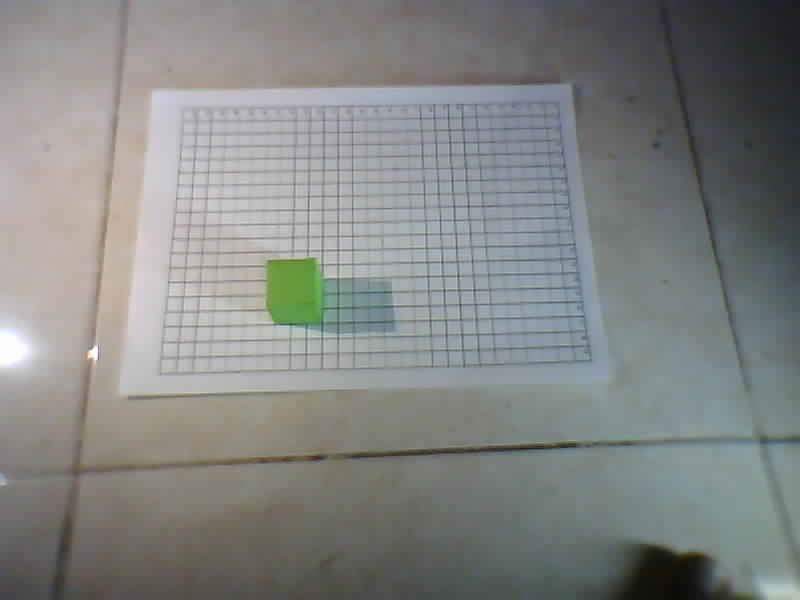green(3x3x3): (256, 248, 331, 335)
